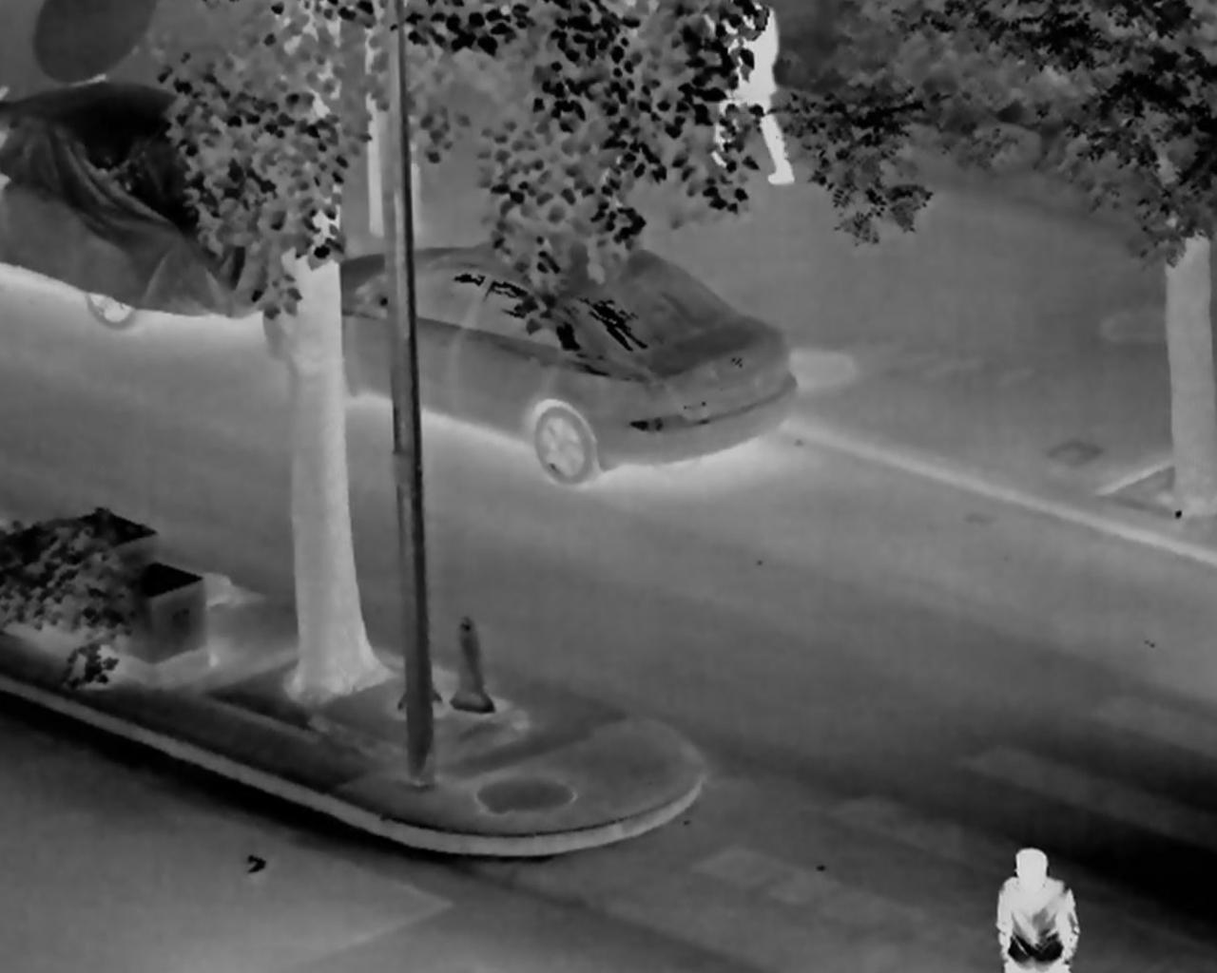person: (997, 848, 1079, 973)
